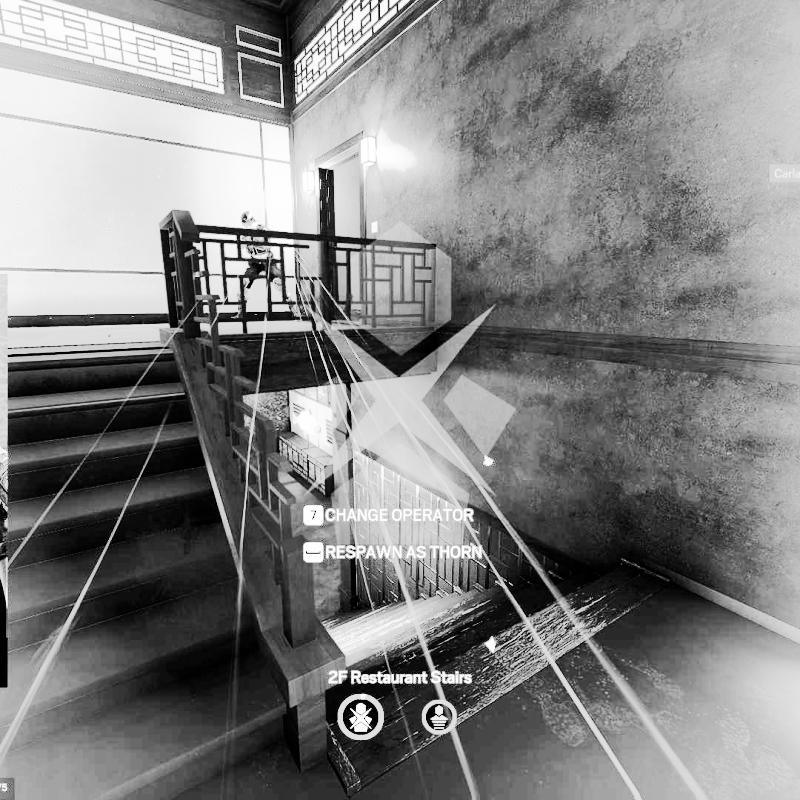Character: (233, 209, 308, 325)
Head: (240, 211, 256, 230)
